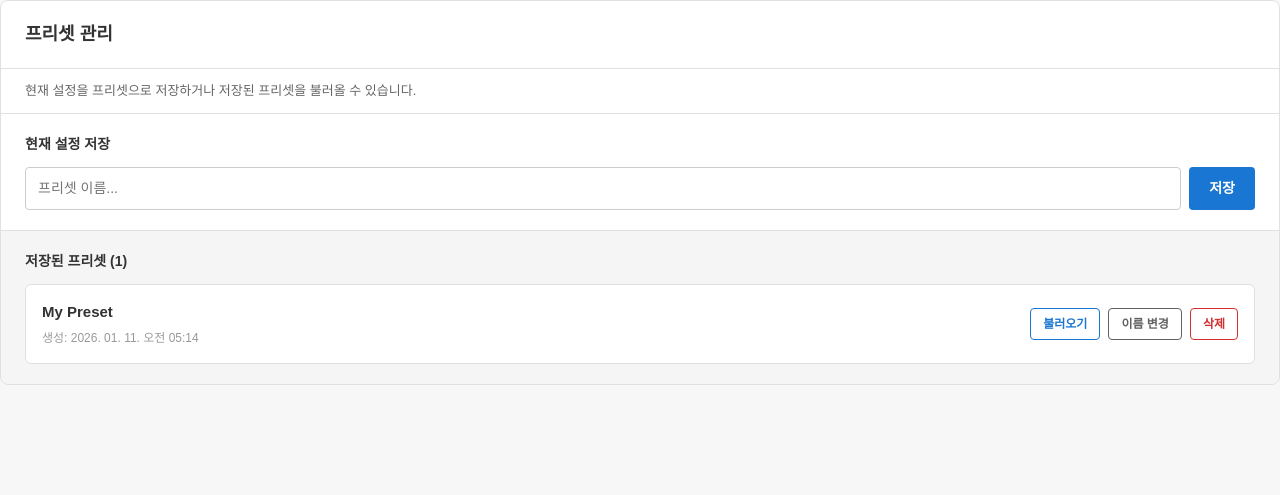
Test: PresetManager › should save on Enter key
This screenshot has width=1280, height=495.
Type "Enter Key Preset" into the field with placeholder "프리셋 이름..." at (603, 188), box [25,166,1181,210]
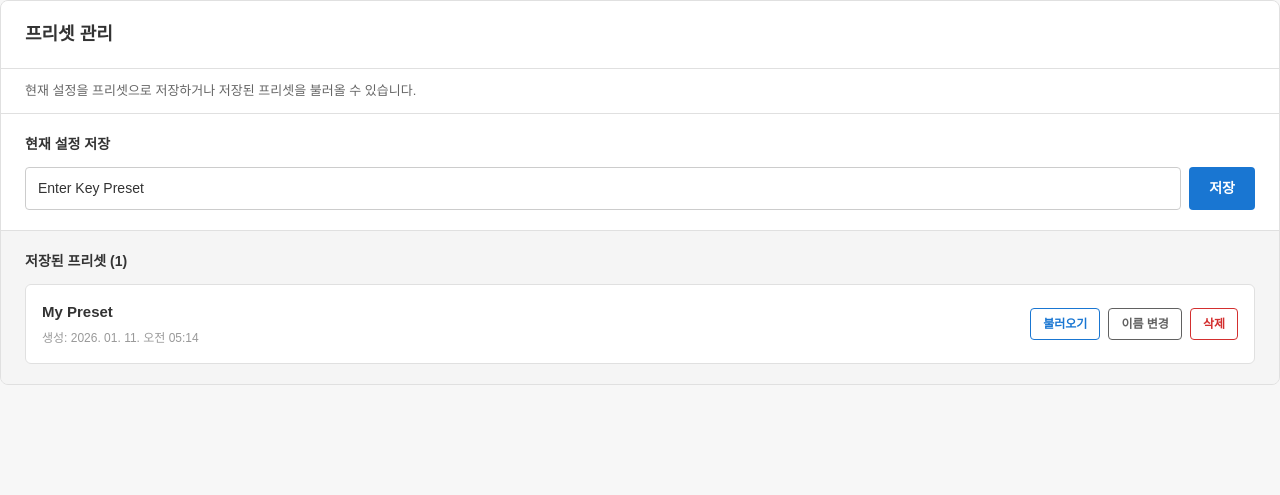
// Submit the form by pressing Enter
Submit the form with placeholder "프리셋 이름...", box [25,166,1255,210]
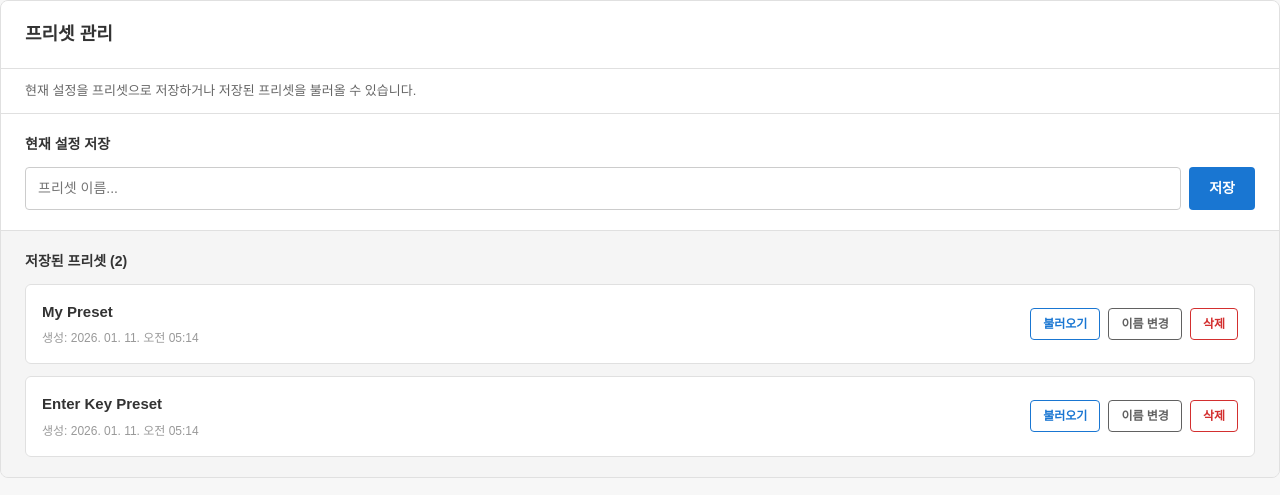
Check: the heading "Enter Key Preset" is shown, box [42,395,162,412]
